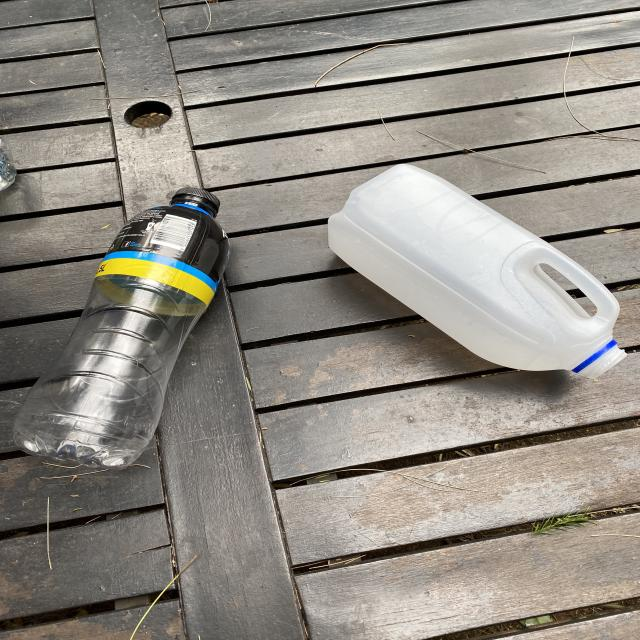bottle: (328, 163, 626, 377), (12, 186, 231, 469)
